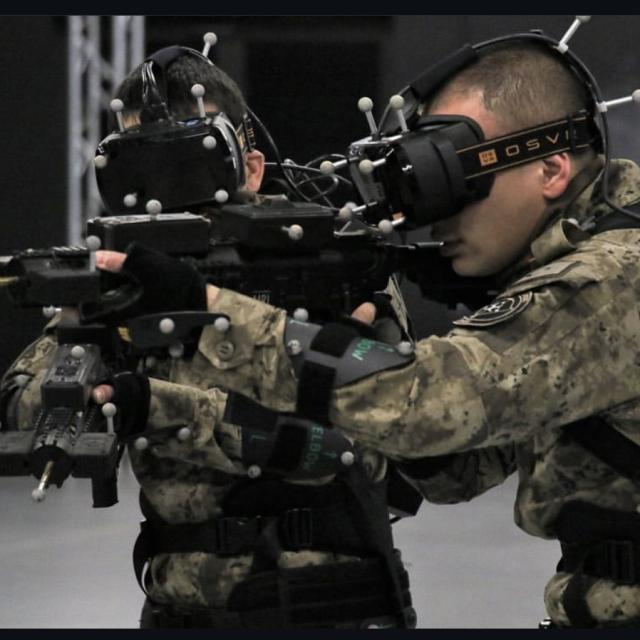poh_personel: (86, 32, 640, 627)
